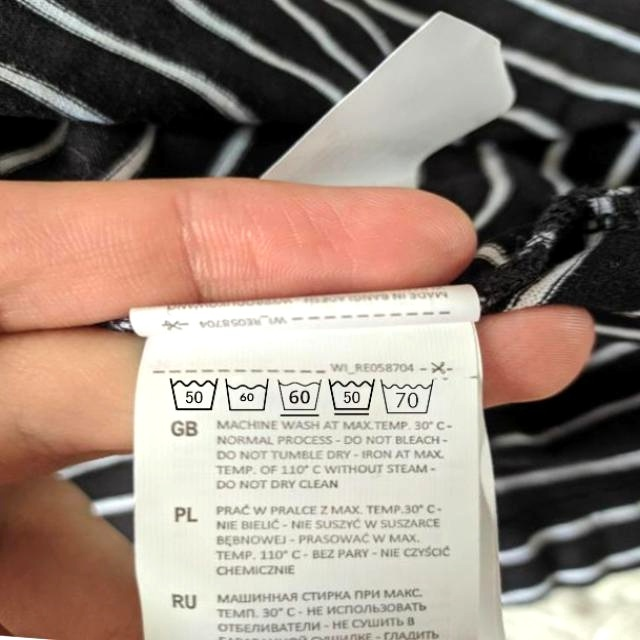50C: (169, 371, 221, 415), (329, 376, 378, 417)
60C: (276, 377, 325, 417), (224, 377, 273, 413)
70C: (381, 377, 438, 419)
